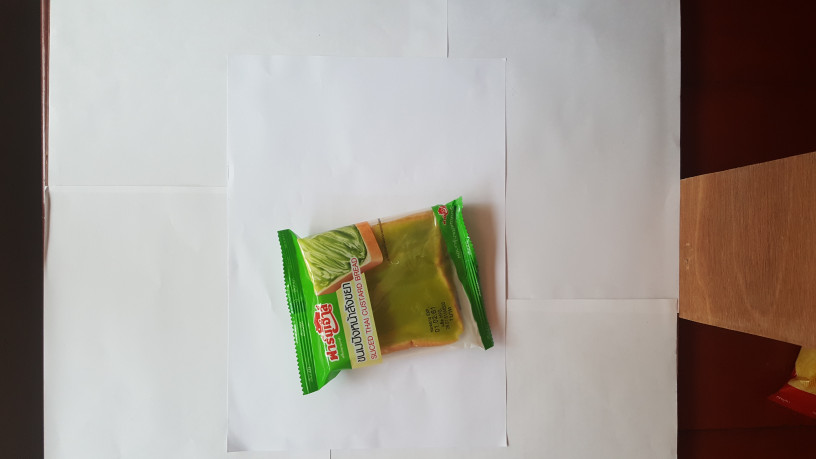farmhouse-bread-pandan: (272, 200, 497, 398)
